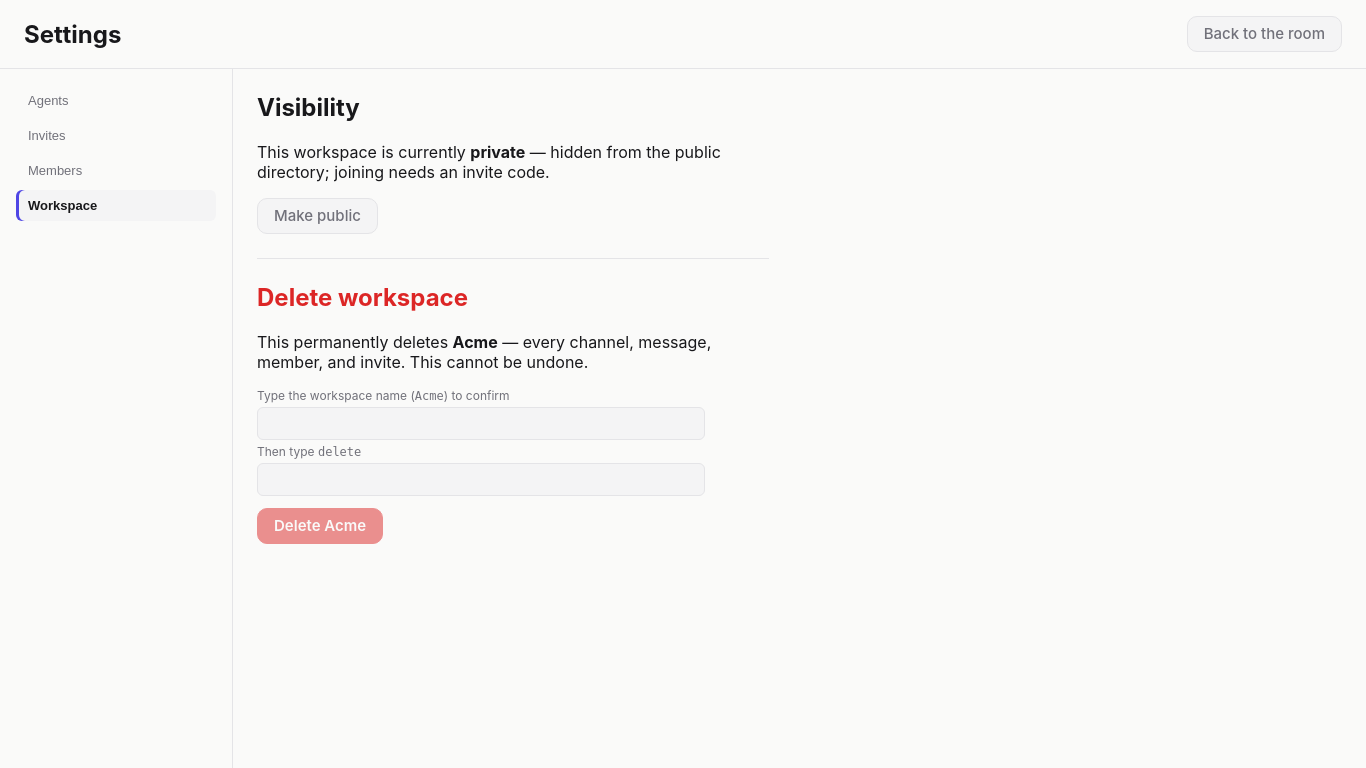
Test: Workspace panel: visibility toggle (admin) › flips private -> public via the API and reflects the server's response
Expected: the heading "Visibility" is shown, [257,93,360,122]
Expected: the text "private" is shown, [470,142,525,162]
Step 1. Click the button "Make public" → [317, 216], box [257,198,378,234]
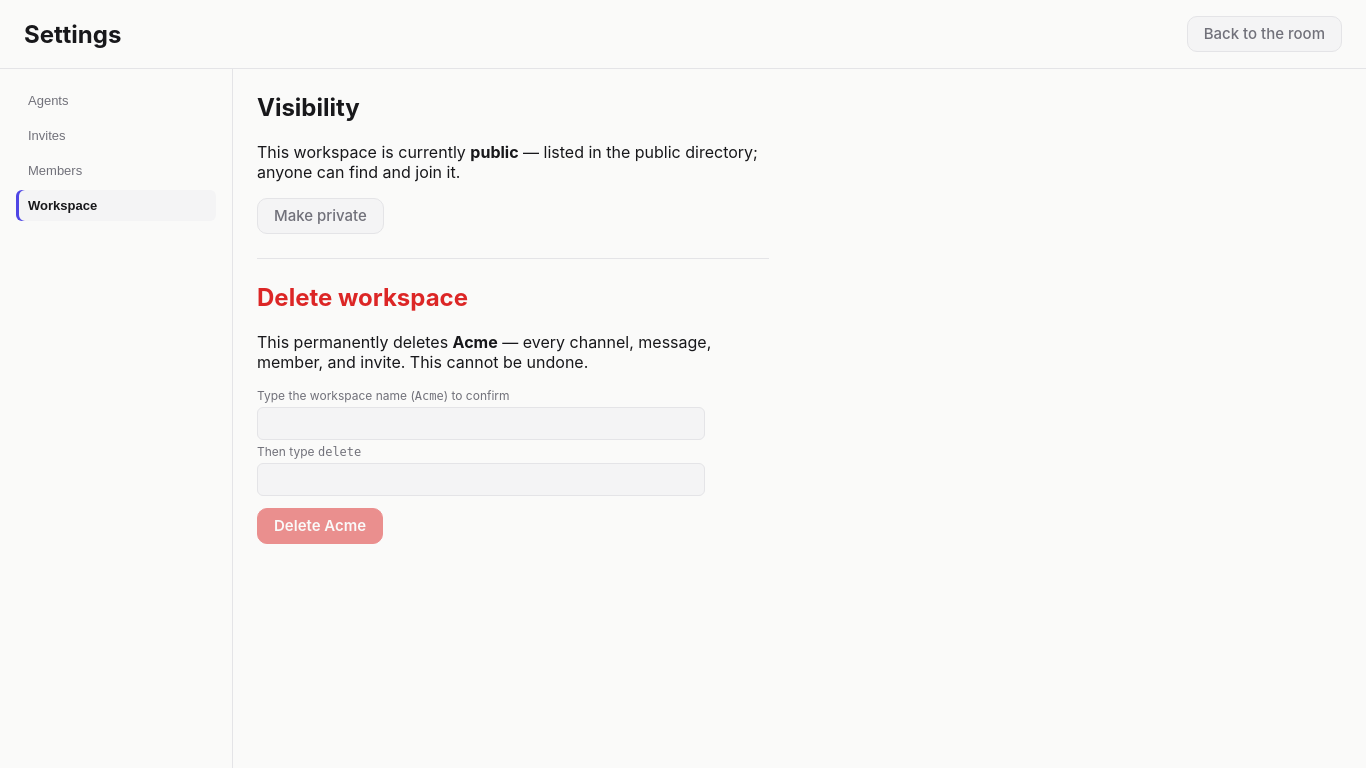
Expected: the button "Make private" is shown, [257,198,384,234]
